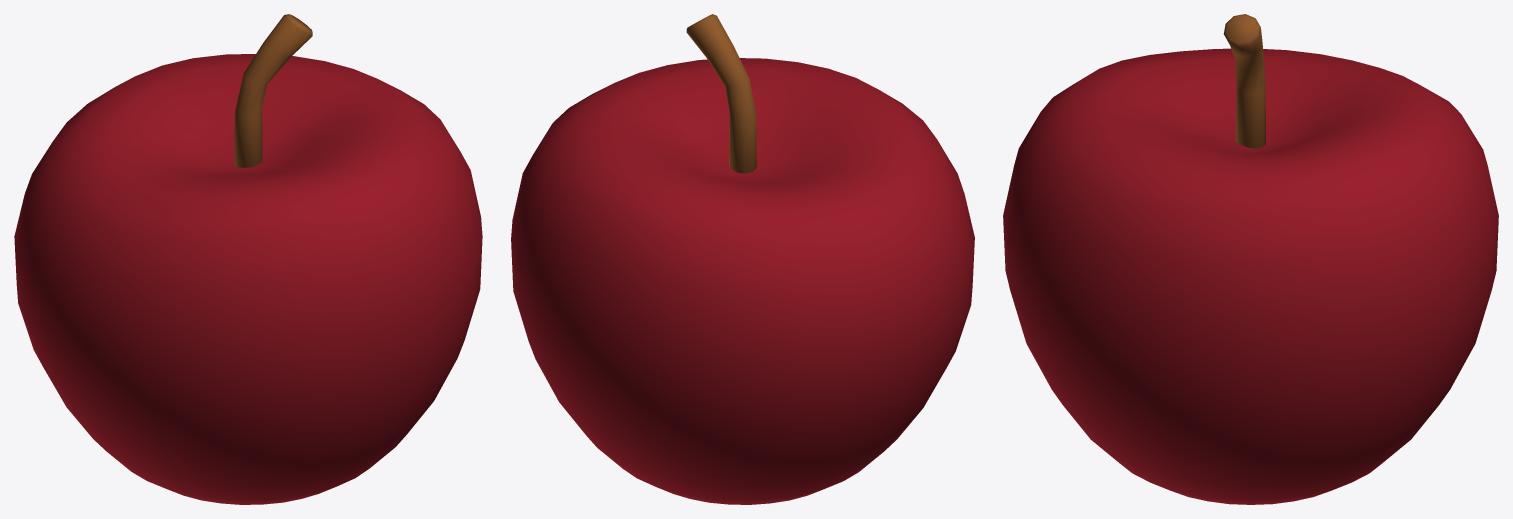
The model's file is elma.fbx.
The picture shows the model from 3 angles, left to right: view 1: azimuth 30°, elevation 25°; view 2: azimuth 150°, elevation 25°; view 3: azimuth 270°, elevation 25°; orthographic projection. The views are drawn at different scales.
Parts seen in each view (by area): view 1: Sphere, Cylinder; view 2: Sphere, Cylinder; view 3: Sphere, Cylinder.
Boxes of the visible parts, x1,y1,x2,y2 form: Sphere: [14, 54, 482, 504]; Cylinder: [234, 14, 312, 167]; Sphere: [511, 58, 974, 504]; Cylinder: [686, 14, 756, 173]; Sphere: [1003, 48, 1498, 504]; Cylinder: [1223, 14, 1265, 148].
Bounding box in the file's own units: 183 × 189 × 183.
